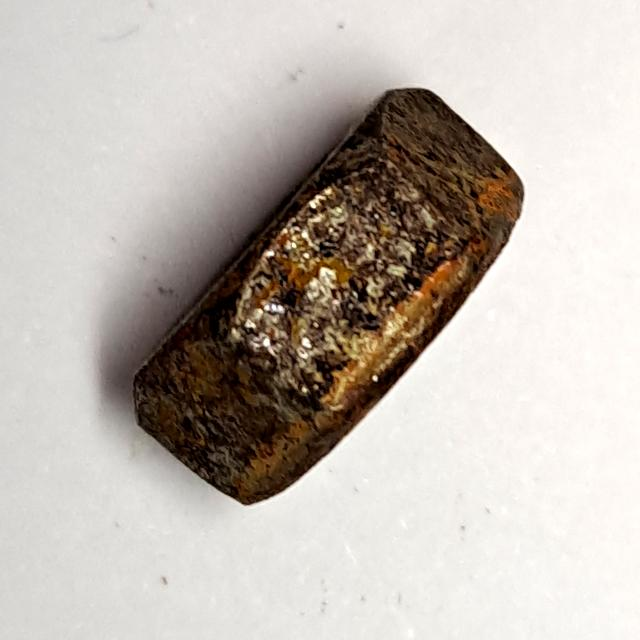Side_Rust: (117, 77, 536, 521)
